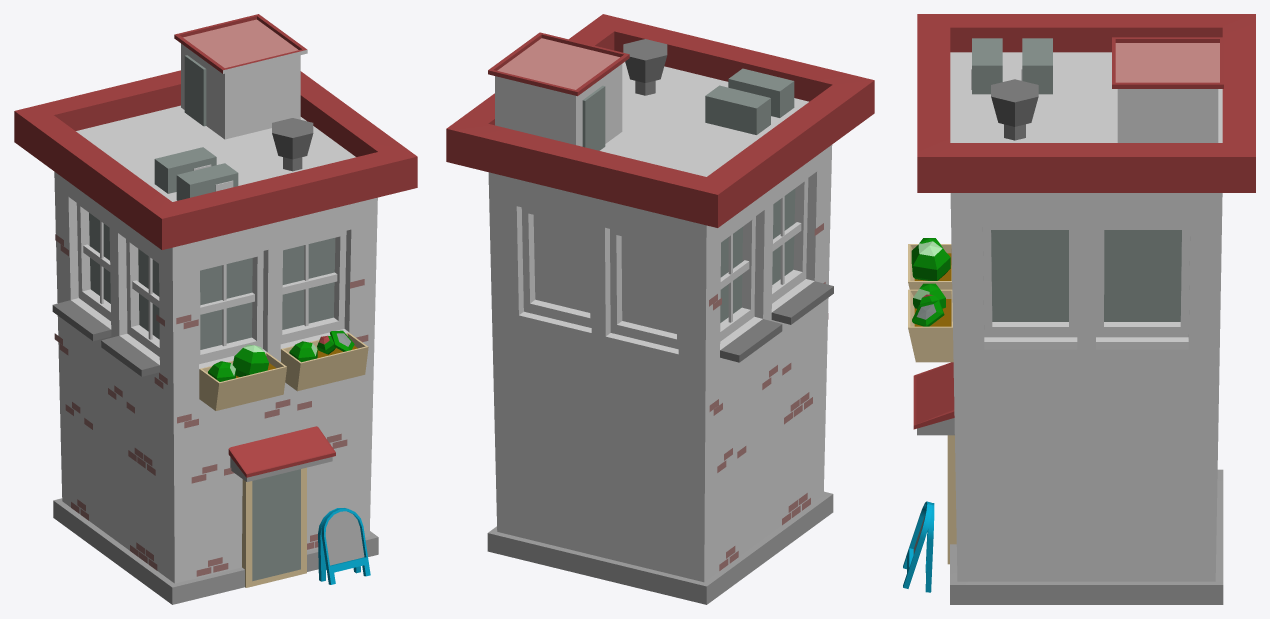
Rendered from building_01.fbx.
The picture shows the model from 3 angles, left to right: view 1: azimuth 30°, elevation 25°; view 2: azimuth 150°, elevation 25°; view 3: azimuth 270°, elevation 25°; orthographic projection. The views are drawn at different scales.
Visible parts, largest first — view 1: pCube175; view 2: pCube175; view 3: pCube175.
Boxes of the visible parts, left/top/right/bottom form: pCube175: left=14, top=14, right=417, bottom=604; pCube175: left=446, top=14, right=874, bottom=604; pCube175: left=903, top=14, right=1255, bottom=604.
Bounding box in the file's own units: 8.82 × 15.06 × 9.19.
